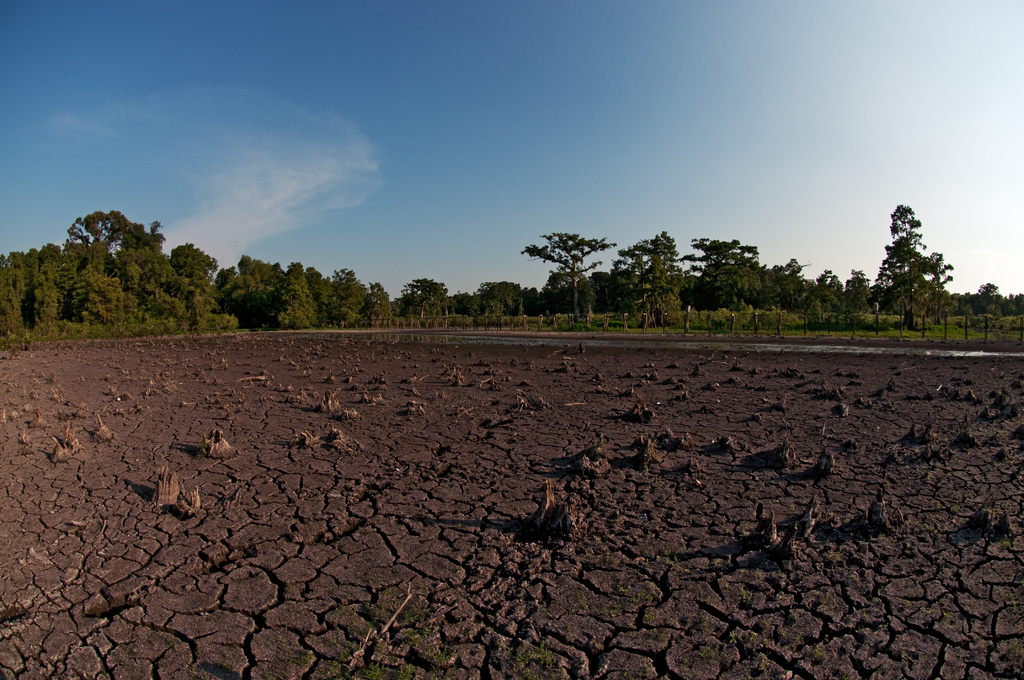Tree: (0, 209, 217, 328), (678, 237, 870, 311), (214, 248, 388, 327), (874, 203, 954, 331), (519, 232, 617, 323), (610, 228, 683, 322), (394, 278, 455, 321), (467, 282, 523, 317), (977, 281, 1002, 311)
